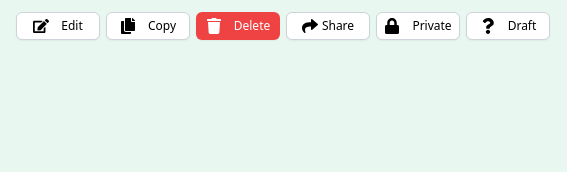
Scenario: EventCardActions › shows error message if clipboard fails
Note: Click the Share button
Click the button "Share" at (328, 26), box [286,12,370,40]
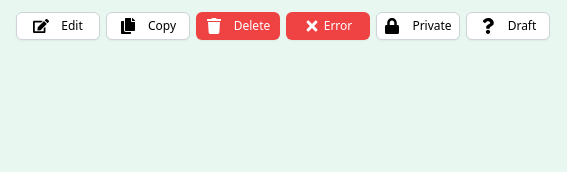
Check: the text "Error" is shown, box [324,18,352,34]
